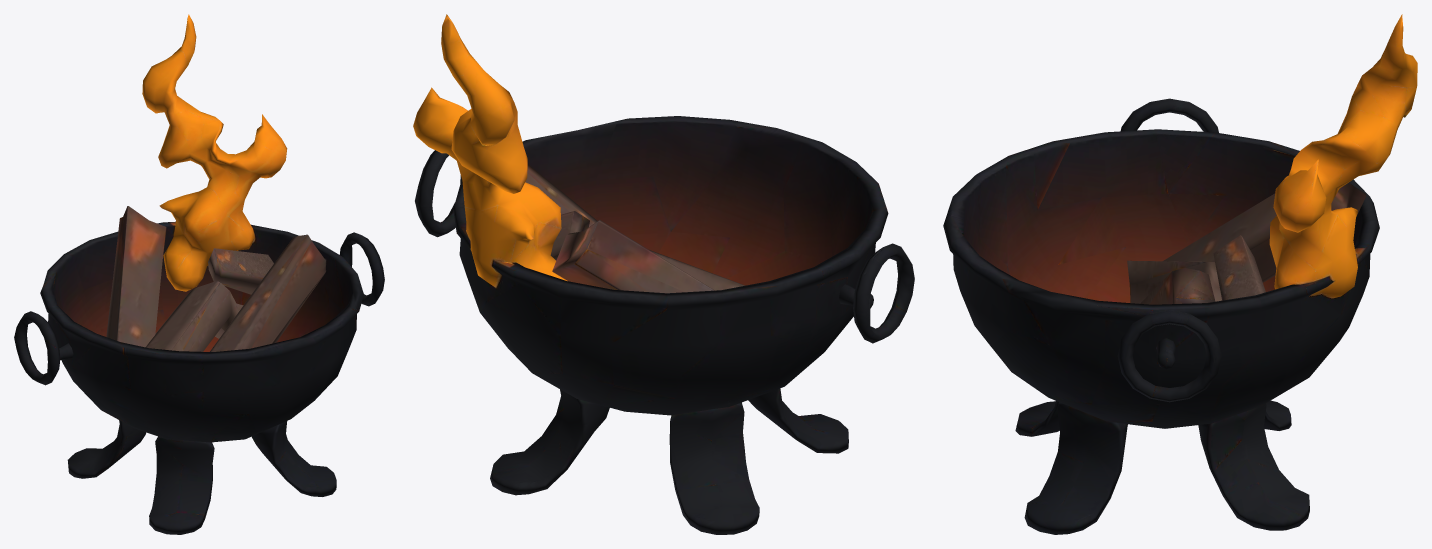
Rendered from brazier.glb.
The picture shows the model from 3 angles, left to right: view 1: azimuth 30°, elevation 25°; view 2: azimuth 150°, elevation 25°; view 3: azimuth 270°, elevation 25°; orthographic projection. The views are drawn at different scales.
Size of the model in its own units: 0.8867 by 0.9517 by 0.8027.
Materials: 1 (1 with a texture image).
